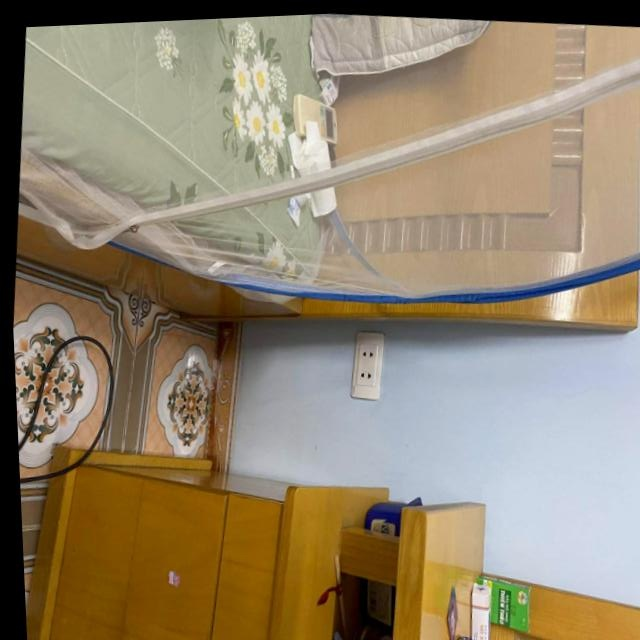outlet: (349, 329, 389, 402)
